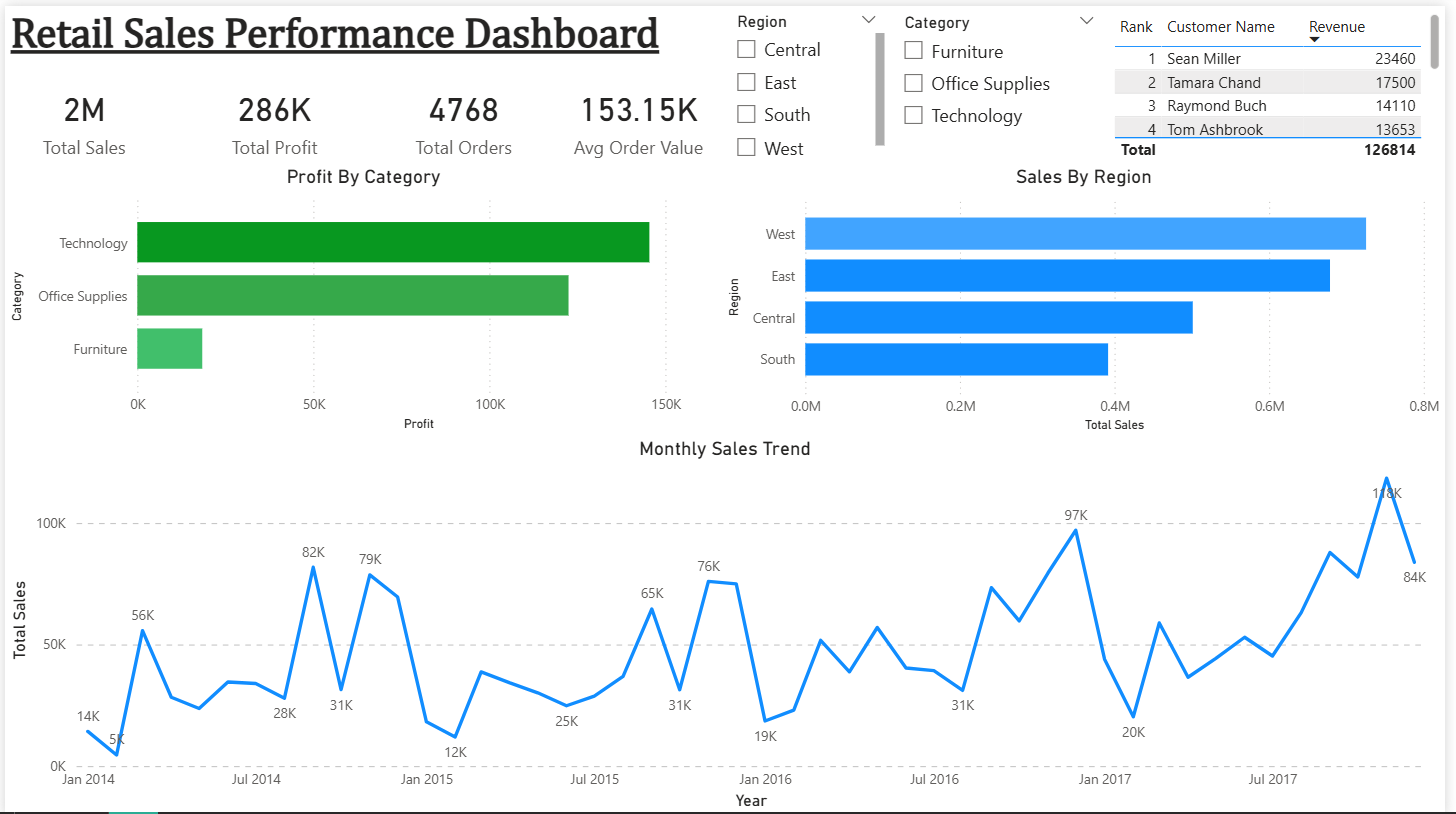

Layout of this report page (visuals, bound fields, positions):
{"tool":"powerbi","page":{"name":"Page 1","canvas":[1280,720],"ordinal":0},"visuals":[{"type":"card","fields":{"Values":["Sum(category_sales.Sales)"]},"box":[0,61.2,141.2,80],"z":0},{"type":"card","fields":{"Values":["Sum(category_profit.Profit)"]},"box":[161.2,61.2,157.5,80],"z":1},{"type":"card","fields":{"Values":["total_orders.Avg Order Value"]},"box":[488.8,61.2,148.8,80],"z":2},{"type":"card","fields":{"Values":["CountNonNull(total_orders.Order ID)"]},"box":[336.2,61.2,142.5,80],"z":3},{"type":"lineChart","title":"Monthly Sales  Trend","fields":{"Y":["Sum(monthly_sales.Sales)"],"Category":["monthly_sales.Order Date.Variation.Date Hierarchy.Year","monthly_sales.Order Date.Variation.Date Hierarchy.Month"]},"box":[0,383.8,1280,336.2],"z":4},{"type":"clusteredBarChart","title":"Profit By Category","fields":{"Category":["category_profit.Category"],"Y":["Sum(category_profit.Profit)"]},"box":[0,141.2,637.5,241.2],"z":5},{"type":"clusteredBarChart","title":"Sales By Region","fields":{"Y":["Sum(region_sales.Sales)"],"Category":["region_sales.Region"]},"box":[637.5,141.2,642.5,242.5],"z":6},{"type":"tableEx","fields":{"Values":["top_customers.Rank","top_customers.Customer Name","Sum(top_customers.Sales)"]},"box":[980,2.5,300,140],"z":7},{"type":"slicer","fields":{"Values":["category_sales.Category"]},"box":[786.2,1.2,193.8,141.2],"z":8},{"type":"slicer","fields":{"Values":["region_sales.Region"]},"box":[637.5,0,148.8,141.2],"z":9},{"type":"textbox","box":[0,0,637.5,61.2],"z":10}]}

Visuals, with their boxes in screenshot pixels (x1, y1, x2, y2), scaled from the page's 1280x720 canvas onto the 1456x814 screenshot:
card - Sum(category_sales.Sales): (x1=0, y1=69, x2=161, y2=160)
card - Sum(category_profit.Profit): (x1=183, y1=69, x2=363, y2=160)
card - total_orders.Avg Order Value: (x1=556, y1=69, x2=725, y2=160)
card - CountNonNull(total_orders.Order ID): (x1=382, y1=69, x2=545, y2=160)
"Monthly Sales  Trend" lineChart: (x1=0, y1=434, x2=1455, y2=813)
"Profit By Category" clusteredBarChart: (x1=0, y1=160, x2=725, y2=432)
"Sales By Region" clusteredBarChart: (x1=725, y1=160, x2=1455, y2=434)
tableEx - top_customers.Rank x top_customers.Customer Name: (x1=1115, y1=3, x2=1455, y2=161)
slicer - category_sales.Category: (x1=894, y1=1, x2=1115, y2=161)
slicer - region_sales.Region: (x1=725, y1=0, x2=894, y2=160)
textbox: (x1=0, y1=0, x2=725, y2=69)
